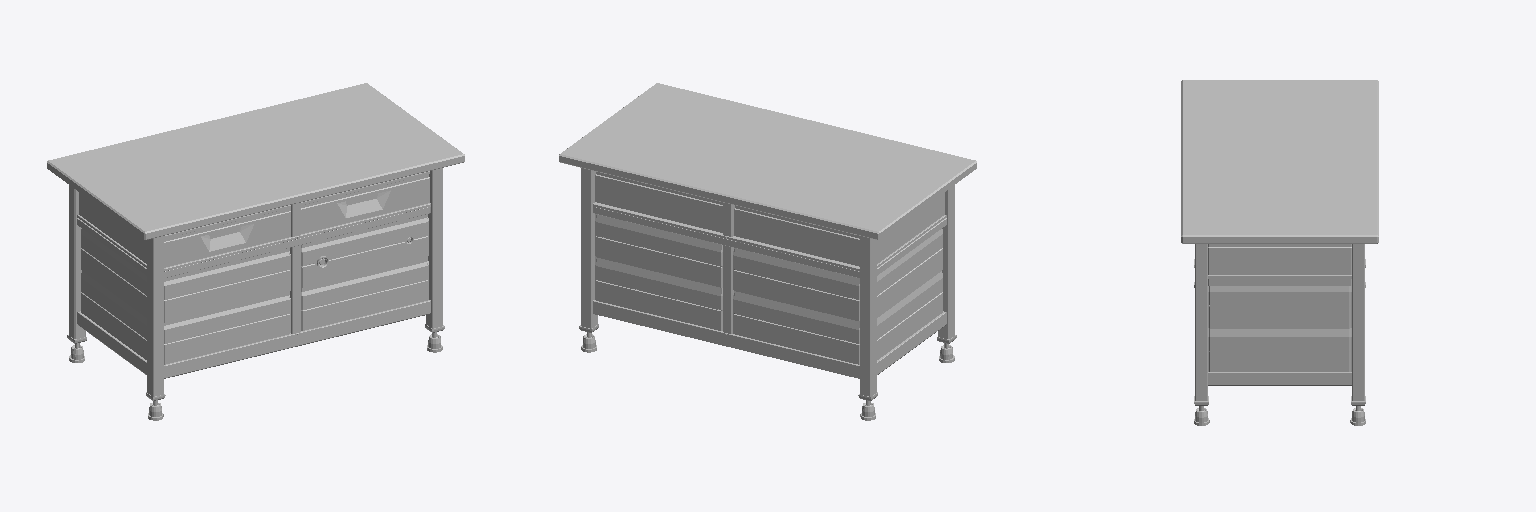
File: sep.obj
3 views of the same model, side by side, from view 1: azimuth 30°, elevation 25°; view 2: azimuth 150°, elevation 25°; view 3: azimuth 270°, elevation 25° (orthographic).
Parts seen in each view (by area): view 1: workbench_5_mat_workbench_0.044, workbench_5_mat_workbench_0.017, workbench_5_mat_workbench_0.042, workbench_5_mat_workbench_0.184, workbench_5_mat_workbench_0.183, workbench_5_mat_workbench_0.172, workbench_5_mat_workbench_0.111, workbench_5_mat_workbench_0.041, workbench_5_mat_workbench_0.171, workbench_5_mat_workbench_0.096, workbench_5_mat_workbench_0.145, workbench_5_mat_workbench_0.131 (+17 smaller); view 2: workbench_5_mat_workbench_0.044, workbench_5_mat_workbench_0.143, workbench_5_mat_workbench_0.129, workbench_5_mat_workbench_0.038, workbench_5_mat_workbench_0.180, workbench_5_mat_workbench_0.010, workbench_5_mat_workbench_0.192, workbench_5_mat_workbench_0.081, workbench_5_mat_workbench_0.009, workbench_5_mat_workbench_0.191, workbench_5_mat_workbench_0.037, workbench_5_mat_workbench_0.179 (+15 smaller); view 3: workbench_5_mat_workbench_0.044, workbench_5_mat_workbench_0.152, workbench_5_mat_workbench_0.034, workbench_5_mat_workbench_0.005, workbench_5_mat_workbench_0.033, workbench_5_mat_workbench_0.006, workbench_5_mat_workbench_0.066, workbench_5_mat_workbench_0.096, workbench_5_mat_workbench_0.063, workbench_5_mat_workbench_0.056.
Boxes of the visible parts, box(x1,y1,x2,y2) form: workbench_5_mat_workbench_0.044: box(47, 83, 464, 239); workbench_5_mat_workbench_0.017: box(302, 214, 427, 287); workbench_5_mat_workbench_0.042: box(301, 257, 428, 309); workbench_5_mat_workbench_0.184: box(164, 248, 290, 299); workbench_5_mat_workbench_0.183: box(164, 270, 290, 322); workbench_5_mat_workbench_0.172: box(164, 292, 290, 343); workbench_5_mat_workbench_0.111: box(147, 236, 163, 396); workbench_5_mat_workbench_0.041: box(301, 280, 428, 330); workbench_5_mat_workbench_0.171: box(164, 314, 290, 364); workbench_5_mat_workbench_0.096: box(426, 168, 442, 328); workbench_5_mat_workbench_0.145: box(301, 181, 429, 233); workbench_5_mat_workbench_0.131: box(164, 215, 290, 267); workbench_5_mat_workbench_0.044: box(559, 83, 976, 239); workbench_5_mat_workbench_0.143: box(595, 172, 722, 232); workbench_5_mat_workbench_0.129: box(735, 205, 859, 266); workbench_5_mat_workbench_0.038: box(595, 256, 722, 309); workbench_5_mat_workbench_0.180: box(733, 291, 859, 343); workbench_5_mat_workbench_0.010: box(595, 214, 722, 265); workbench_5_mat_workbench_0.192: box(733, 248, 859, 299); workbench_5_mat_workbench_0.081: box(860, 236, 876, 396); workbench_5_mat_workbench_0.009: box(595, 236, 722, 287); workbench_5_mat_workbench_0.191: box(733, 270, 859, 320); workbench_5_mat_workbench_0.037: box(595, 280, 722, 330); workbench_5_mat_workbench_0.179: box(733, 314, 859, 364); workbench_5_mat_workbench_0.044: box(1181, 80, 1378, 243); workbench_5_mat_workbench_0.152: box(1209, 244, 1350, 274); workbench_5_mat_workbench_0.034: box(1208, 328, 1351, 350); workbench_5_mat_workbench_0.005: box(1208, 307, 1351, 328); workbench_5_mat_workbench_0.033: box(1208, 352, 1351, 371); workbench_5_mat_workbench_0.006: box(1208, 286, 1351, 305); workbench_5_mat_workbench_0.066: box(1352, 244, 1364, 400); workbench_5_mat_workbench_0.096: box(1195, 244, 1207, 400); workbench_5_mat_workbench_0.063: box(1208, 377, 1351, 384); workbench_5_mat_workbench_0.056: box(1209, 279, 1350, 285).
Size of the model in its own units: 143 by 83.97 by 76.22.